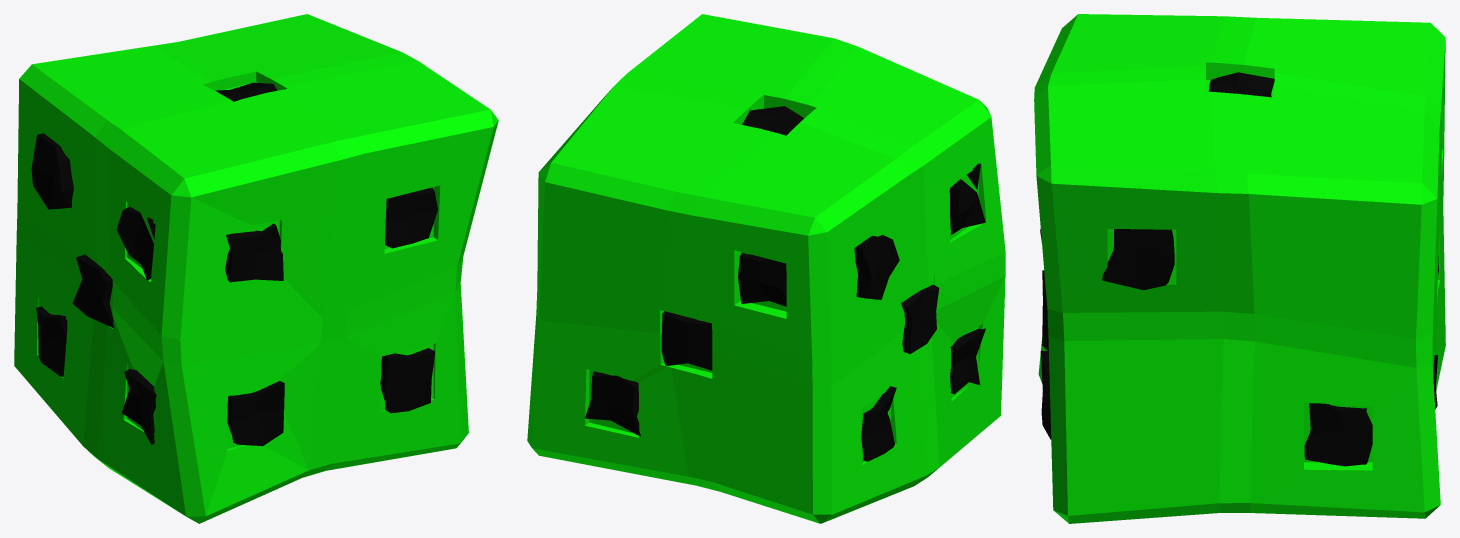
The model's file is 7_dice_green_ugly.gltf.
3 views of the same model, side by side, from view 1: azimuth 30°, elevation 25°; view 2: azimuth 150°, elevation 25°; view 3: azimuth 270°, elevation 25° (orthographic). The views are drawn at different scales.
Visible parts, largest first — view 1: D6_Dice_Green; view 2: D6_Dice_Green; view 3: D6_Dice_Green.
Boxes of the visible parts, x1,y1,x2,y2 form: D6_Dice_Green: (14,14,498,523); D6_Dice_Green: (527,14,1005,523); D6_Dice_Green: (1034,14,1445,523).
Size of the model in its own units: 2.14 by 2.17 by 2.1.
